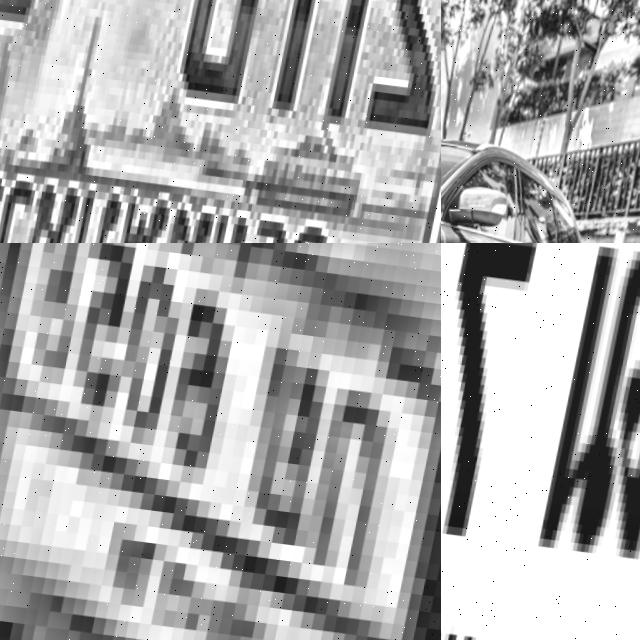license-plate: (0, 243, 441, 640), (0, 0, 441, 243), (441, 243, 640, 640)
